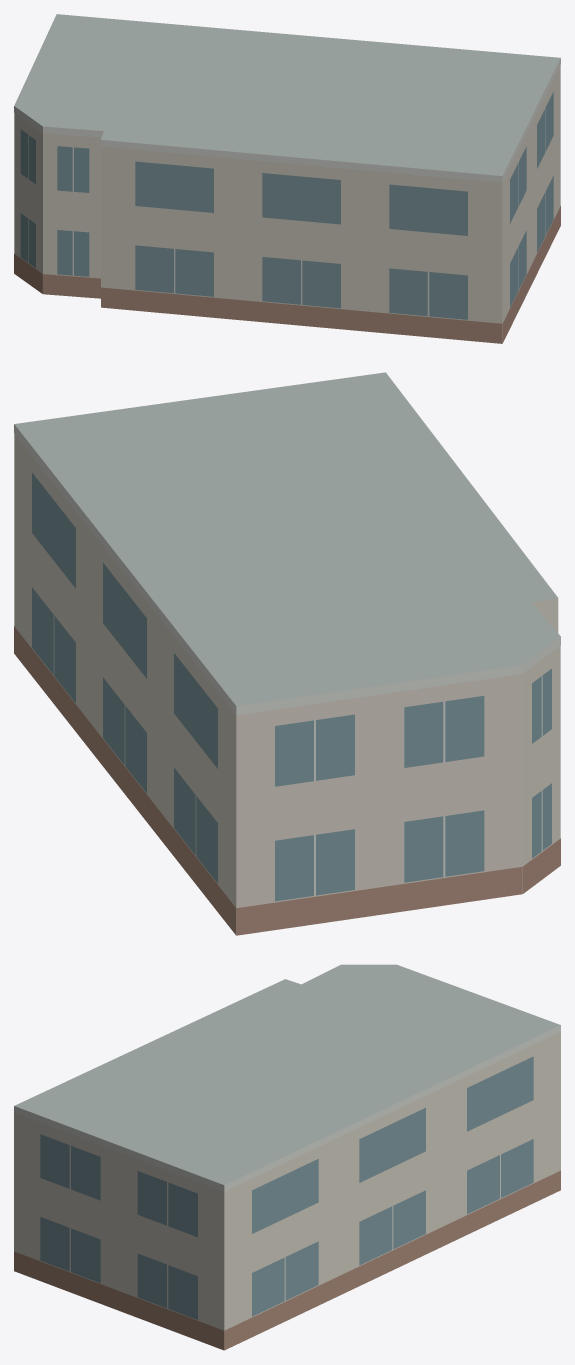
Rendered from survey-upis-32891140.glb.
The picture shows the model from 3 angles, top to bottom: view 1: azimuth 30°, elevation 25°; view 2: azimuth 150°, elevation 25°; view 3: azimuth 270°, elevation 25°; orthographic projection. The views are drawn at different scales.
Parts seen in each view (by area): view 1: survey-upis-32891140.tmp; view 2: survey-upis-32891140.tmp; view 3: survey-upis-32891140.tmp.
Part boxes in pixels (x1,y1,x2,y2): survey-upis-32891140.tmp: (14,14,560,343); survey-upis-32891140.tmp: (14,372,560,935); survey-upis-32891140.tmp: (14,964,560,1350).
Bounding box in the file's own units: 17.49 × 6.1 × 18.3.
